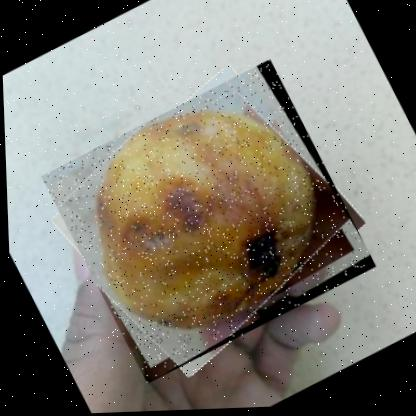guava_rotten: (35, 57, 378, 388)
